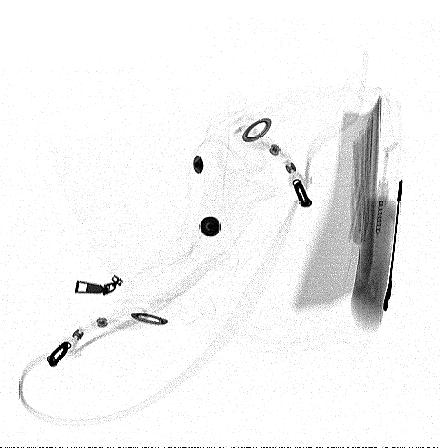Wrench: (381, 178, 404, 314)
